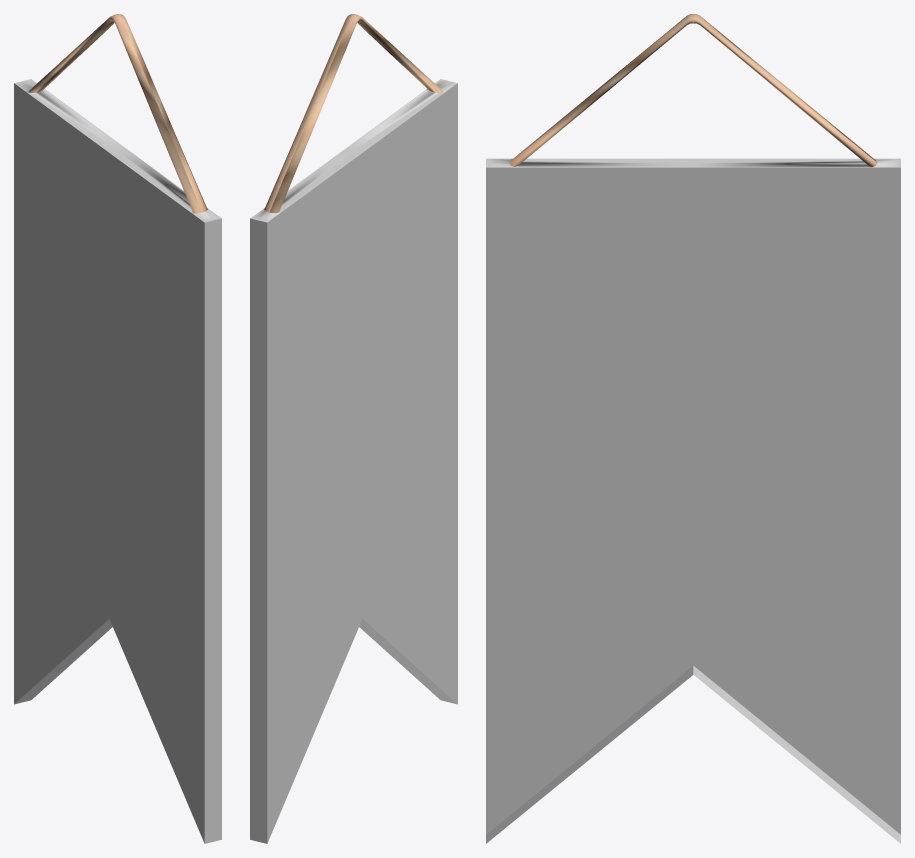
The model's file is Banderin.fbx.
The picture shows the model from 3 angles, left to right: view 1: azimuth 30°, elevation 25°; view 2: azimuth 150°, elevation 25°; view 3: azimuth 270°, elevation 25°; orthographic projection. The views are drawn at different scales.
Parts seen in each view (by area): view 1: Banderín 7.001; view 2: Banderín 7.001; view 3: Banderín 7.001.
Part boxes in pixels (x1=…): Banderín 7.001: x1=14, y1=14, x2=221, y2=843; Banderín 7.001: x1=250, y1=14, x2=457, y2=843; Banderín 7.001: x1=486, y1=14, x2=900, y2=843.
Bounding box in the file's own units: 4.14 × 174 × 79.49.
Materials: 2 (1 with a texture image).
